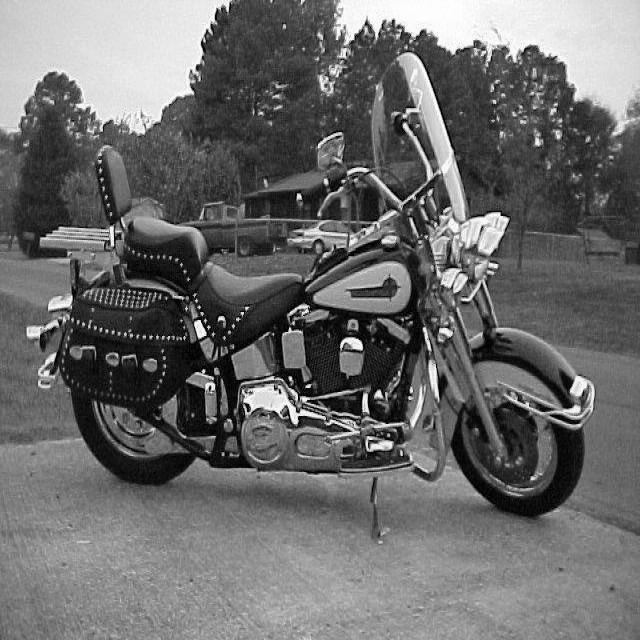Motorcycle: (26, 53, 597, 517)
